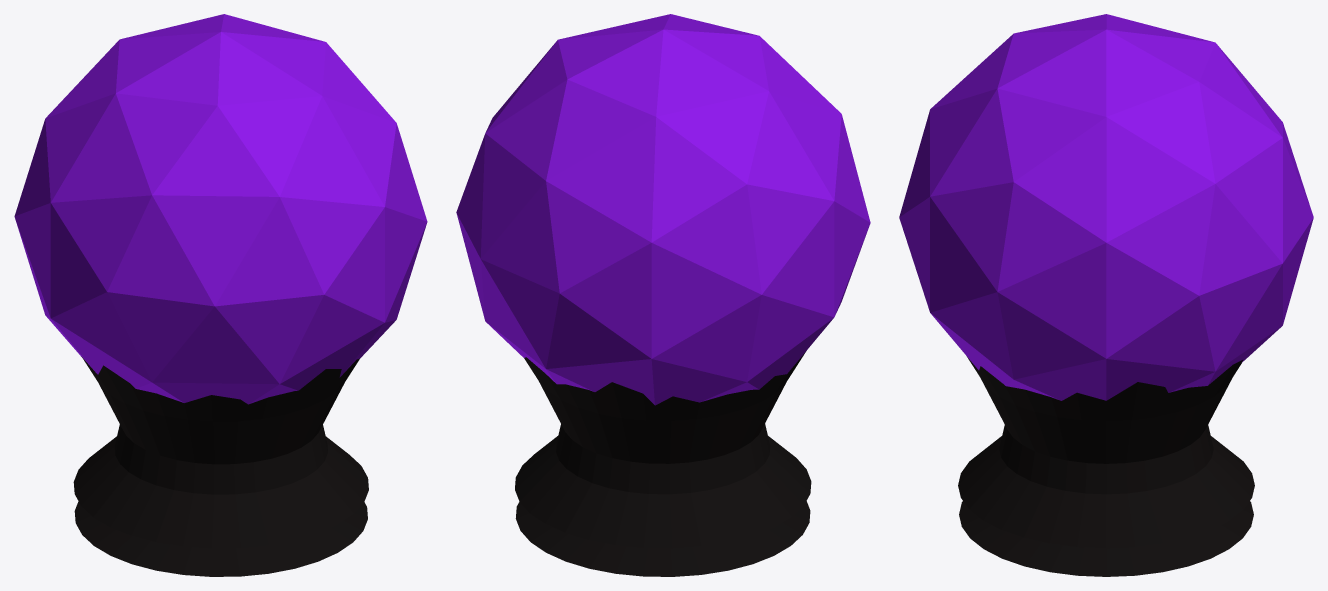
Rendered from ball_mothership.fbx.
3 views of the same model, side by side, from view 1: azimuth 30°, elevation 25°; view 2: azimuth 150°, elevation 25°; view 3: azimuth 270°, elevation 25° (orthographic).
Visible parts, largest first — view 1: Cylinder.001; view 2: Cylinder.001; view 3: Cylinder.001.
Boxes of the visible parts, bbox=[...] form: Cylinder.001: bbox=[14, 14, 427, 576]; Cylinder.001: bbox=[456, 14, 870, 576]; Cylinder.001: bbox=[899, 14, 1313, 576].
Size of the model in its own units: 87.3 by 118 by 91.79.
